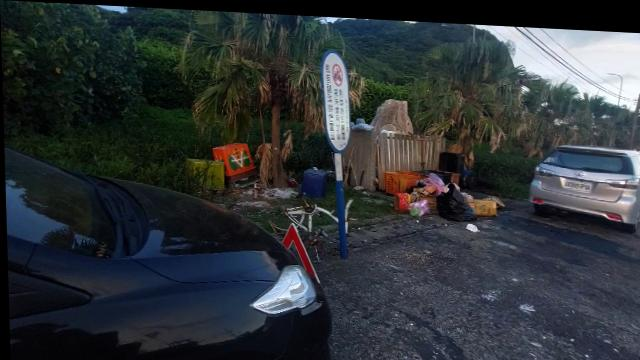pollute: (383, 164, 504, 217), (186, 140, 258, 188), (282, 199, 338, 247), (246, 183, 295, 198), (302, 166, 328, 194), (344, 195, 353, 231), (464, 217, 479, 225)
